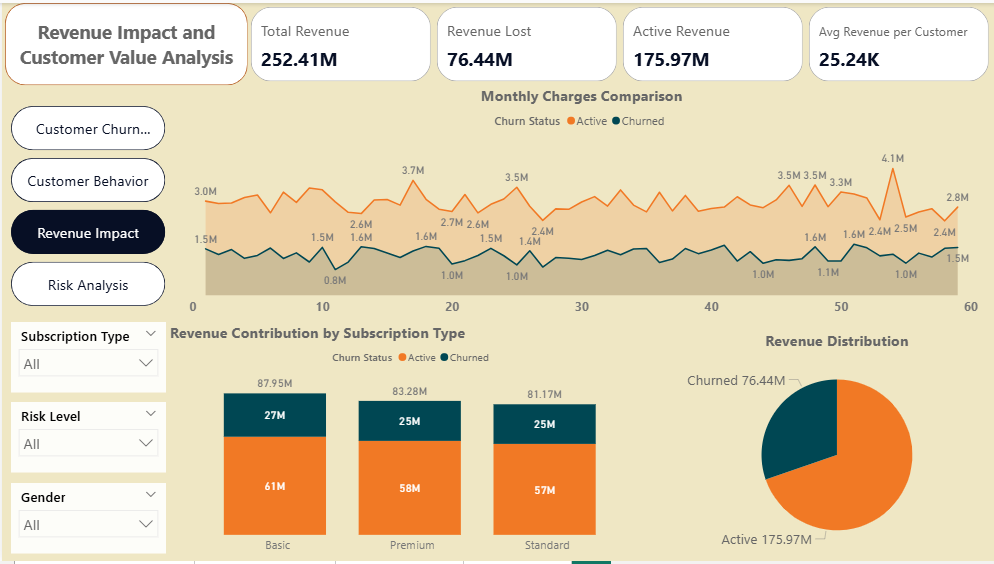

Layout of this report page (visuals, bound fields, positions):
{"tool":"powerbi","page":{"name":"Revenue Impact","canvas":[1280,720],"ordinal":2},"visuals":[{"type":"cardVisual","fields":{"Data":["Measure.Total Revenue","Measure.Revenue Lost","Measure.Active Revenue","Measure.Avg Revenue per Customer"]},"box":[316.1,0,963.8,106.3],"z":0},{"type":"shape","box":[4.3,0,313.2,106.3],"z":1000},{"type":"columnChart","title":"Revenue Contribution by Subscription Type","fields":{"Series":["customer_retention_dataset.Churn Status"],"Y":["Measure.Total Revenue"],"Category":["customer_retention_dataset.subscription_type"]},"box":[211.2,411,636.4,309],"z":2000},{"type":"pageNavigator","box":[11.3,133.2,199.8,260.8],"z":3000},{"type":"slicer","fields":{"Values":["customer_retention_dataset.gender"]},"box":[11.3,619.4,199.8,90.7],"z":4000},{"type":"slicer","fields":{"Values":["customer_retention_dataset.Risk Level"]},"box":[11.3,514.5,199.8,90.7],"z":5000},{"type":"slicer","fields":{"Values":["customer_retention_dataset.subscription_type"]},"box":[11.3,411,199.8,90.7],"z":6000},{"type":"donutChart","title":"Revenue Distribution","fields":{"Category":["customer_retention_dataset.Churn Status"],"Y":["Measure.Total Revenue"]},"box":[875,422.1,405,297.4],"z":7000},{"type":"lineChart","title":"Monthly Charges Comparison","fields":{"Y":["Measure.Total Revenue"],"Series":["customer_retention_dataset.Churn Status"],"Category":["customer_retention_dataset.tenure_months"]},"box":[230.7,106,1033.9,305.9],"z":8000}]}

Visuals, with their boxes in screenshot pixels (x1, y1, x2, y2), scaled from the page's 1280x720 canvas onto the 994x564 screenshot:
cardVisual - Measure.Total Revenue x Measure.Revenue Lost: locate(245, 0, 993, 83)
shape: locate(3, 0, 247, 83)
"Revenue Contribution by Subscription Type" columnChart: locate(164, 322, 658, 563)
pageNavigator: locate(9, 104, 164, 309)
slicer - customer_retention_dataset.gender: locate(9, 485, 164, 556)
slicer - customer_retention_dataset.Risk Level: locate(9, 403, 164, 474)
slicer - customer_retention_dataset.subscription_type: locate(9, 322, 164, 393)
"Revenue Distribution" donutChart: locate(679, 331, 993, 563)
"Monthly Charges Comparison" lineChart: locate(179, 83, 982, 323)
